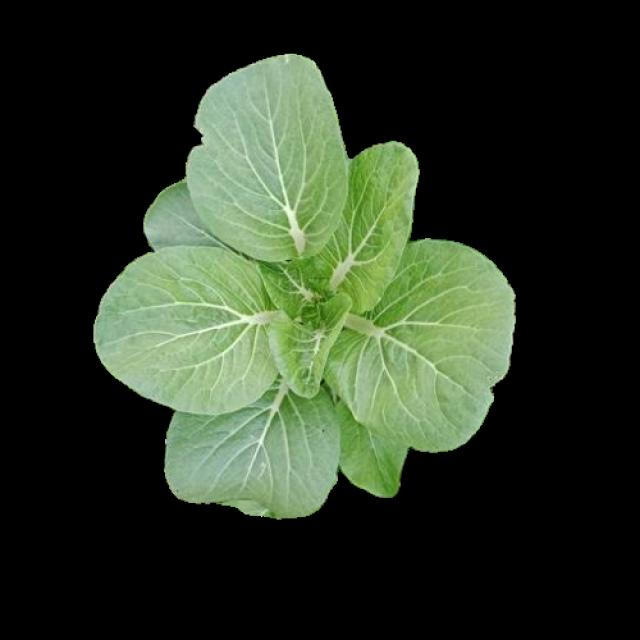mature: (96, 58, 511, 514)
unhealthy: (190, 59, 346, 260), (168, 384, 343, 516)
